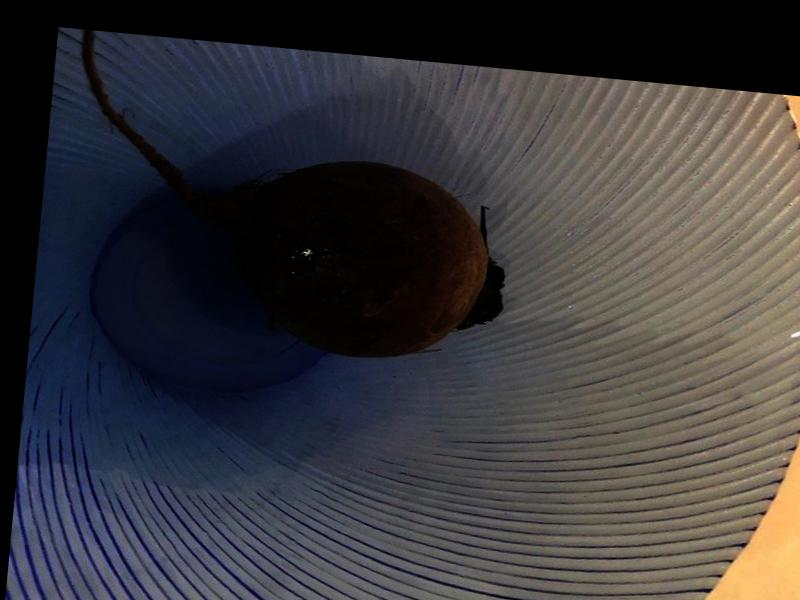Beet: (57, 29, 527, 369)
